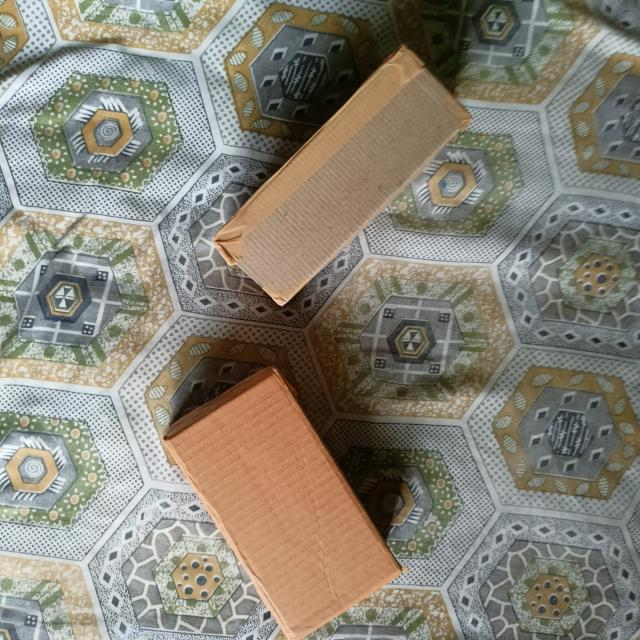box: (216, 47, 472, 305), (165, 372, 404, 640)
